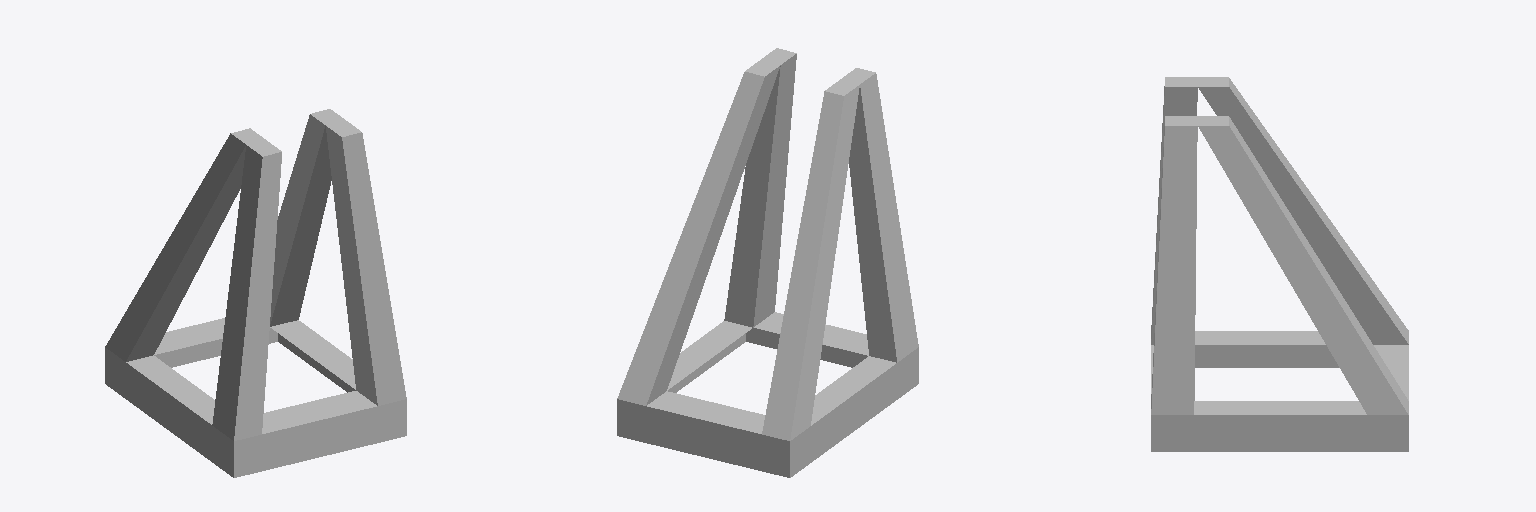
Rendered from body.obj.
3 views of the same model, side by side, from view 1: azimuth 30°, elevation 25°; view 2: azimuth 150°, elevation 25°; view 3: azimuth 270°, elevation 25° (orthographic).
Visible parts, largest first — view 1: Cube_Cube.001; view 2: Cube_Cube.001; view 3: Cube_Cube.001.
Part boxes in pixels (left/top/right/bottom): Cube_Cube.001: left=105, top=109, right=406, bottom=477; Cube_Cube.001: left=617, top=48, right=918, bottom=477; Cube_Cube.001: left=1151, top=77, right=1408, bottom=451.
Bounding box in the file's own units: 3.31 × 5.63 × 4.27.